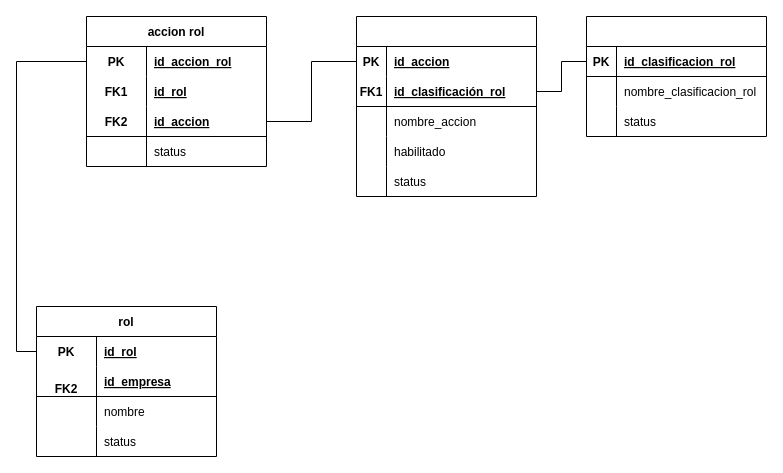
Some shapes in this 783 by 473 pixel diagram are drawn without their labels. Each missing label, with the box of its shape:
acción: (356, 16, 536, 196)
clasificación rol: (586, 16, 766, 136)
